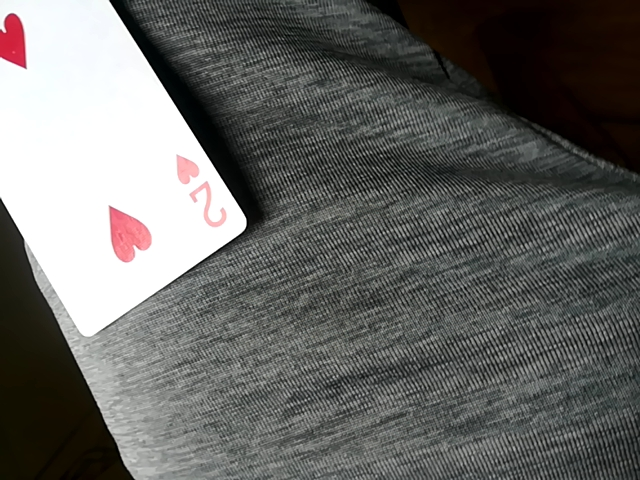hx 2: (0, 0, 253, 341)
